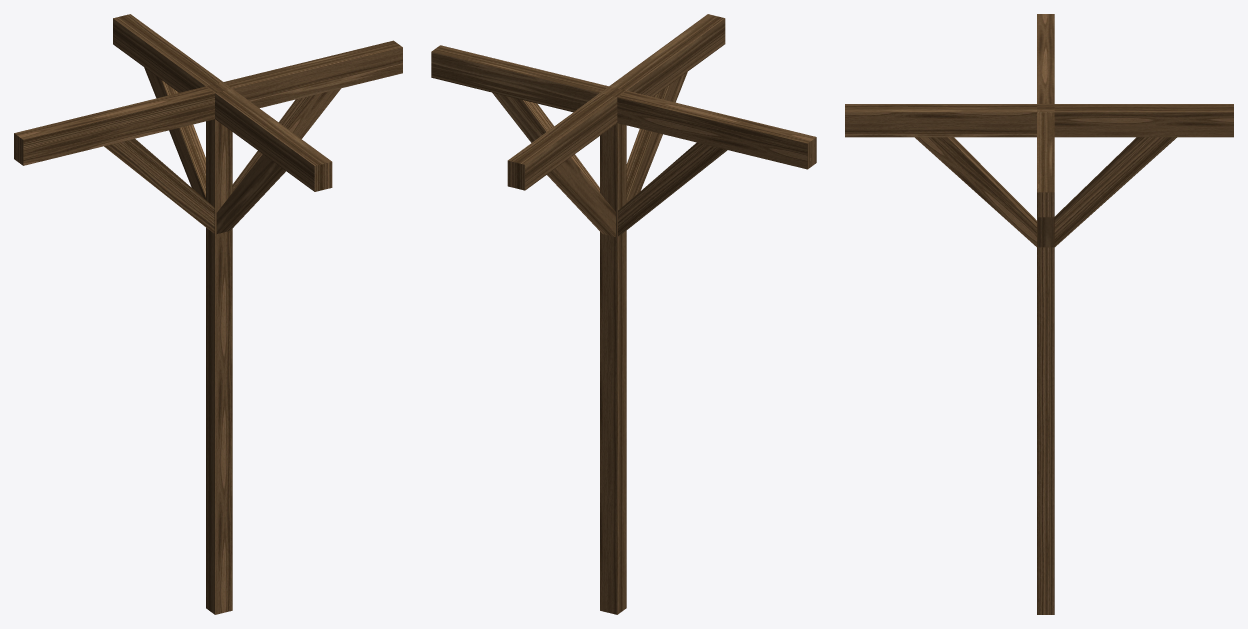
File: Wooden 01.glb
3 views of the same model, side by side, from view 1: azimuth 30°, elevation 25°; view 2: azimuth 150°, elevation 25°; view 3: azimuth 270°, elevation 25° (orthographic). The views are drawn at different scales.
Parts seen in each view (by area): view 1: Wooden_01; view 2: Wooden_01; view 3: Wooden_01.
Boxes of the visible parts, x1,y1,x2,y2 form: Wooden_01: (14,14,402,614); Wooden_01: (431,14,816,614); Wooden_01: (845,14,1233,614).
Bounding box in the file's own units: 1.2 × 1.58 × 1.11.
1 material, 1 textured.
